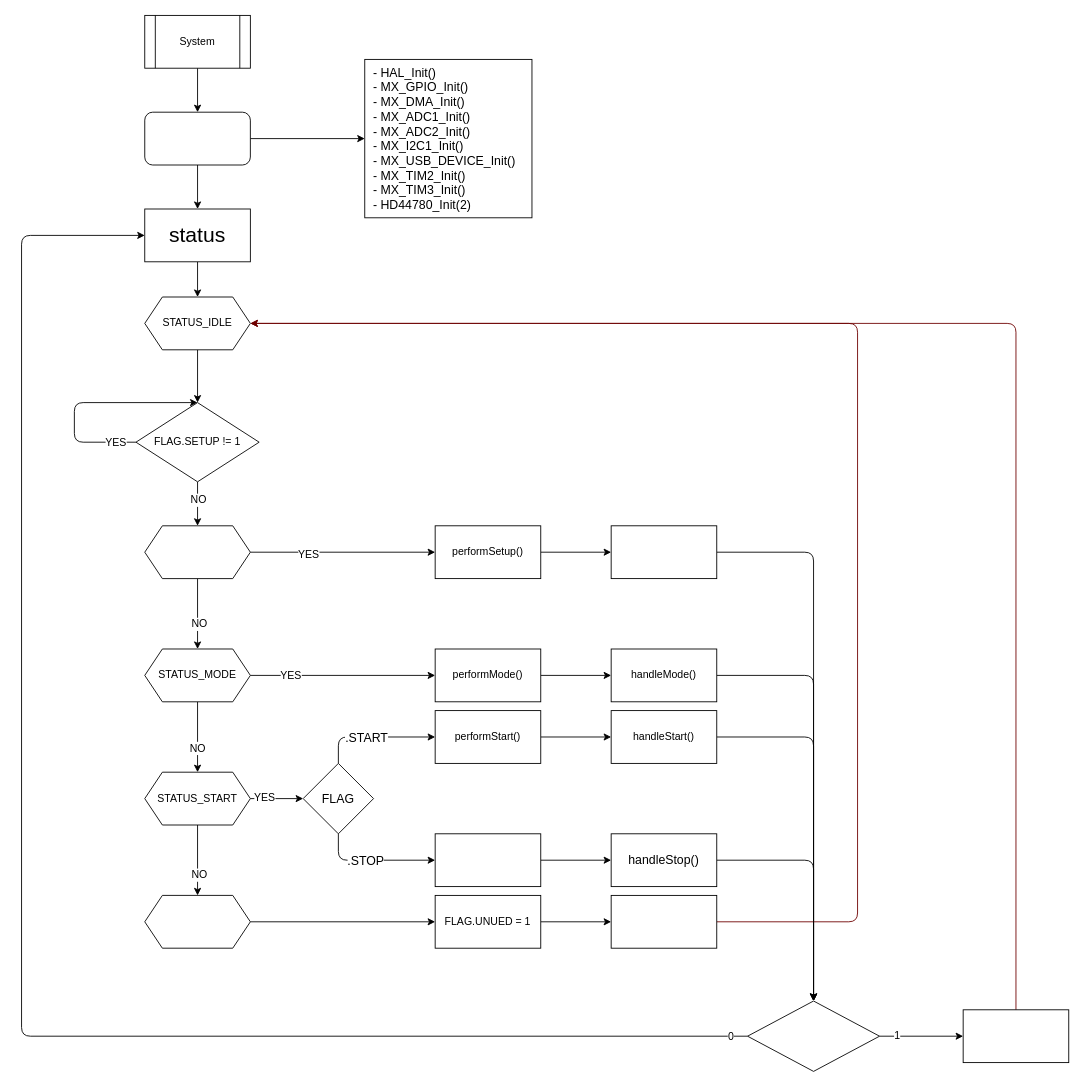
The diagram is 1084 pixels wide and 1087 high, and some of its shapes have lost their labels. The centre of each missing label's shape, as x and y in pixels:
default: point 197,921
FLAG.ERROR: point 813,1035
handleError(): point 1015,1036
handleSetup(): point 663,552
INIT SYSTEM: point 197,138
performStop(): point 487,860
performUnknow(): point 663,921
STATUS_SETUP: point 197,552
